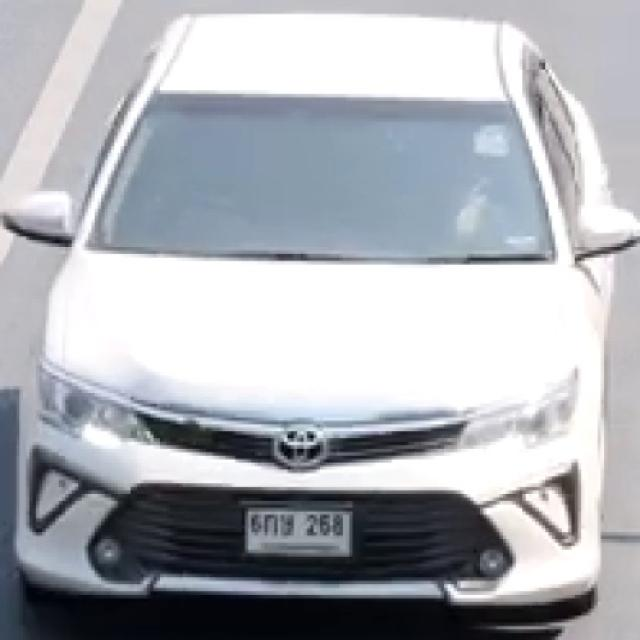plate: (244, 502, 356, 560)
